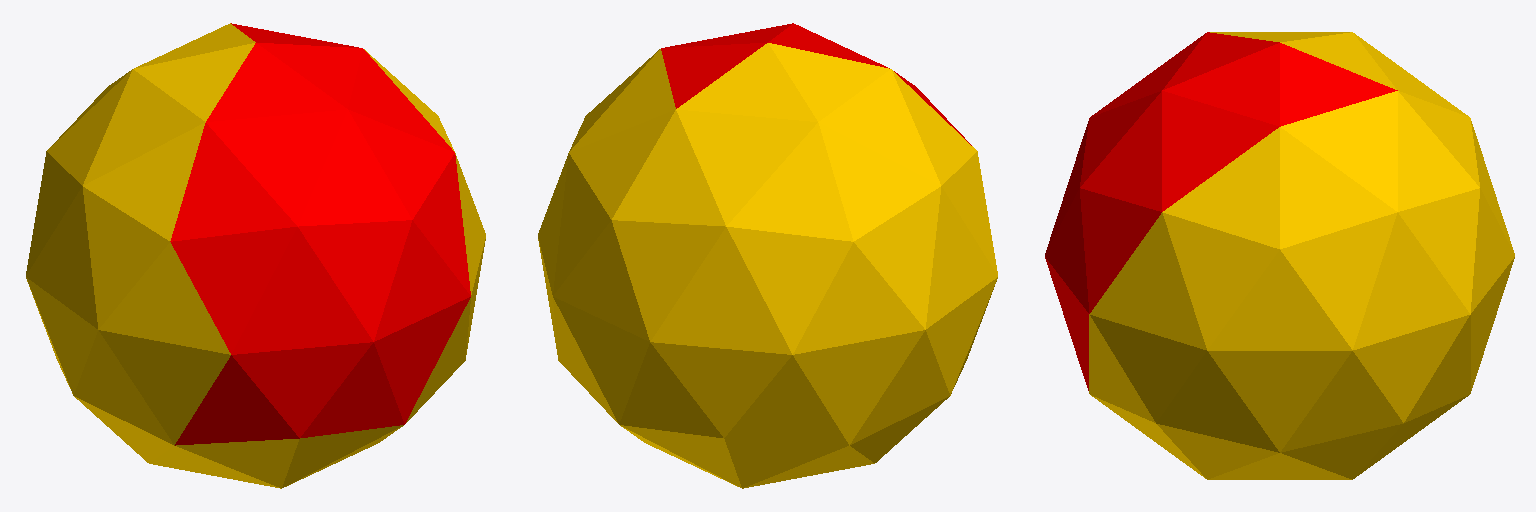
The picture shows the model from 3 angles: view 1: azimuth 30°, elevation 25°; view 2: azimuth 150°, elevation 25°; view 3: azimuth 270°, elevation 25°; orthographic projection.
Visible parts, largest first — view 1: 棱角球; view 2: 棱角球; view 3: 棱角球.
Part boxes in pixels (bbox=[...]): 棱角球: bbox=[26, 23, 485, 488]; 棱角球: bbox=[538, 23, 997, 488]; 棱角球: bbox=[1045, 32, 1514, 479].
Size of the model in its own units: 13.91 by 14.63 by 14.63.